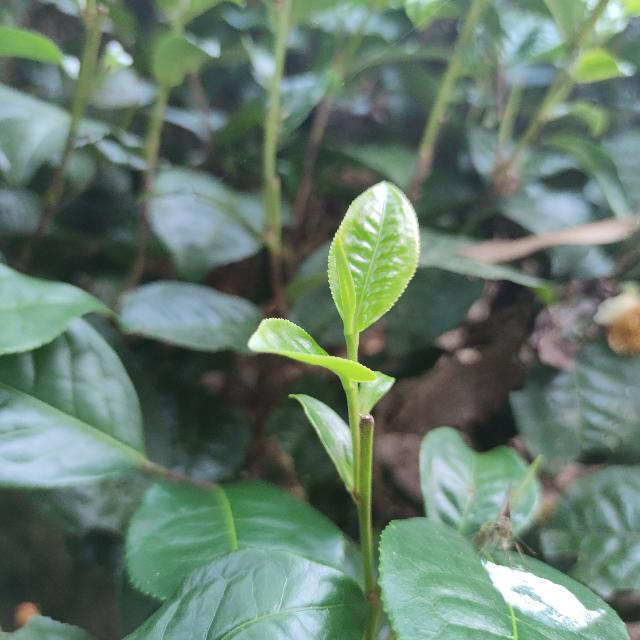Stem: (347, 390, 358, 412)
